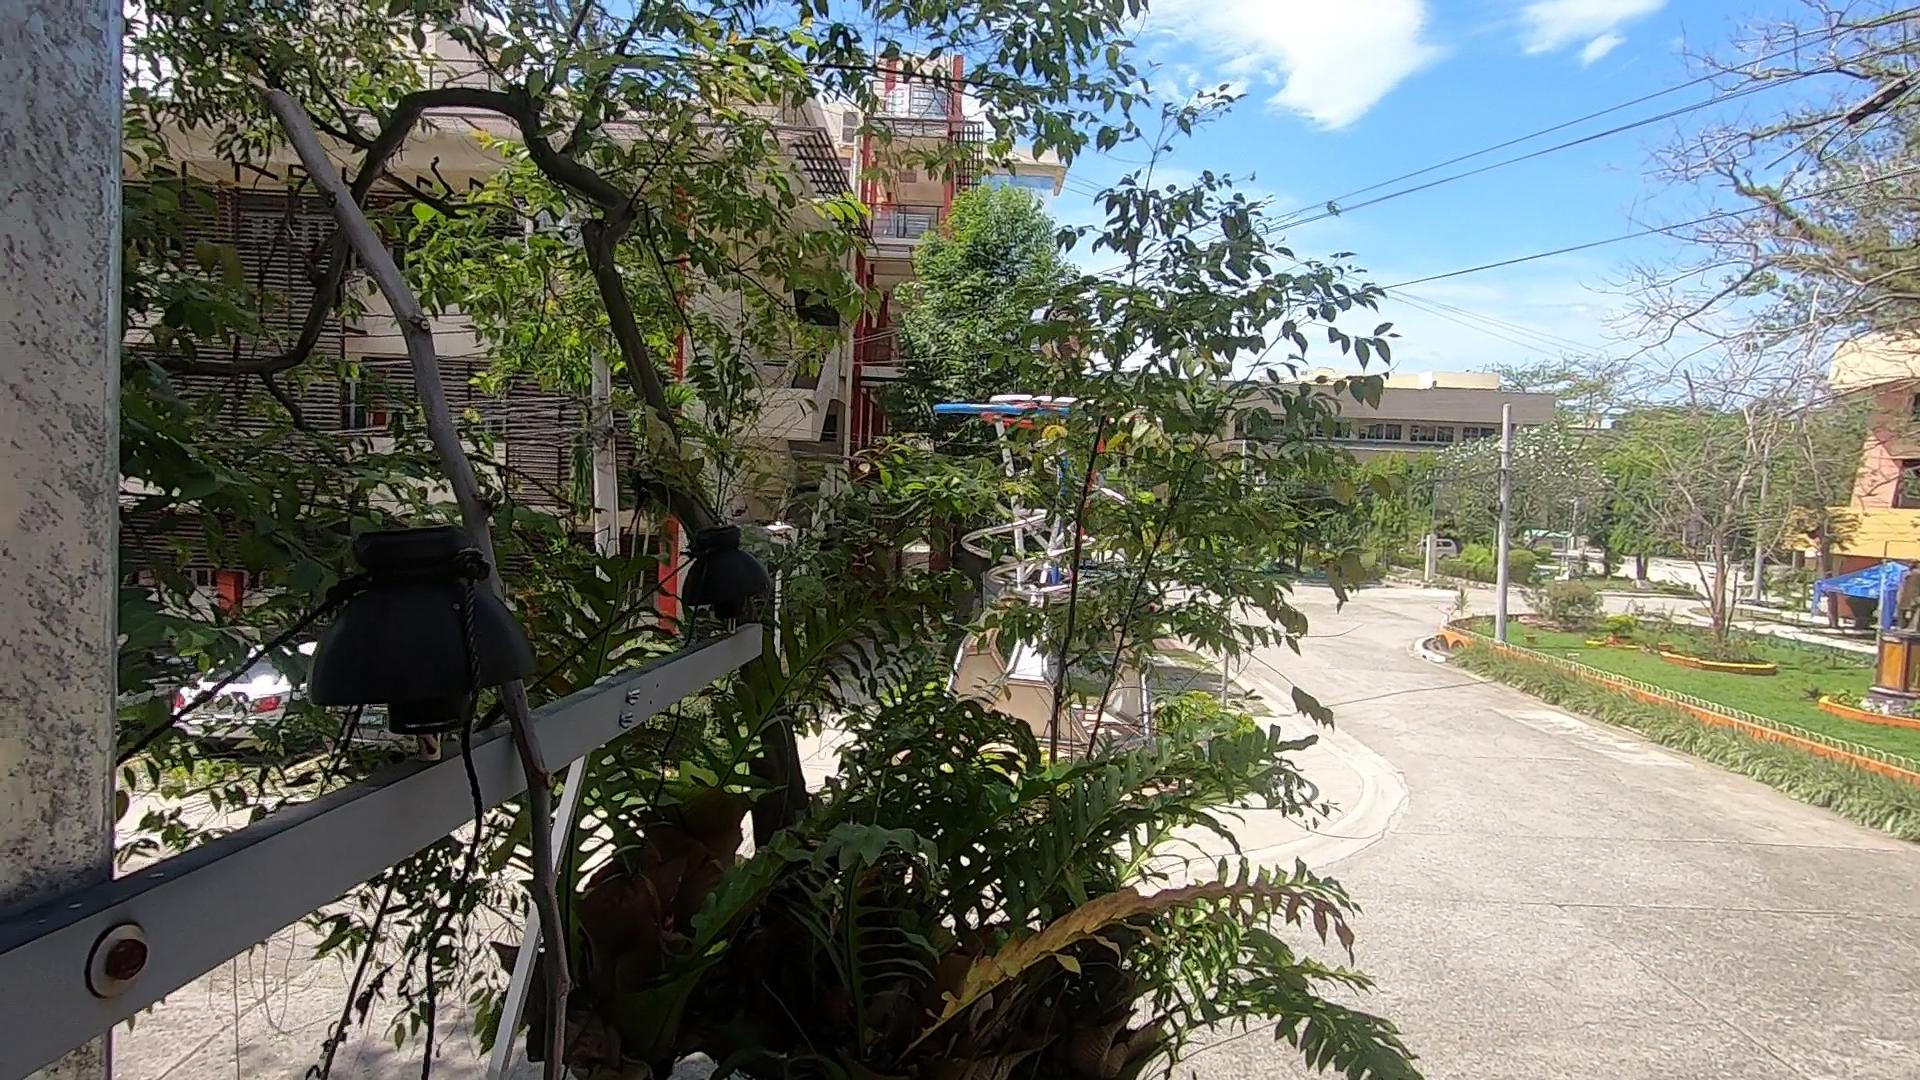tree branch: (219, 50, 659, 1064)
